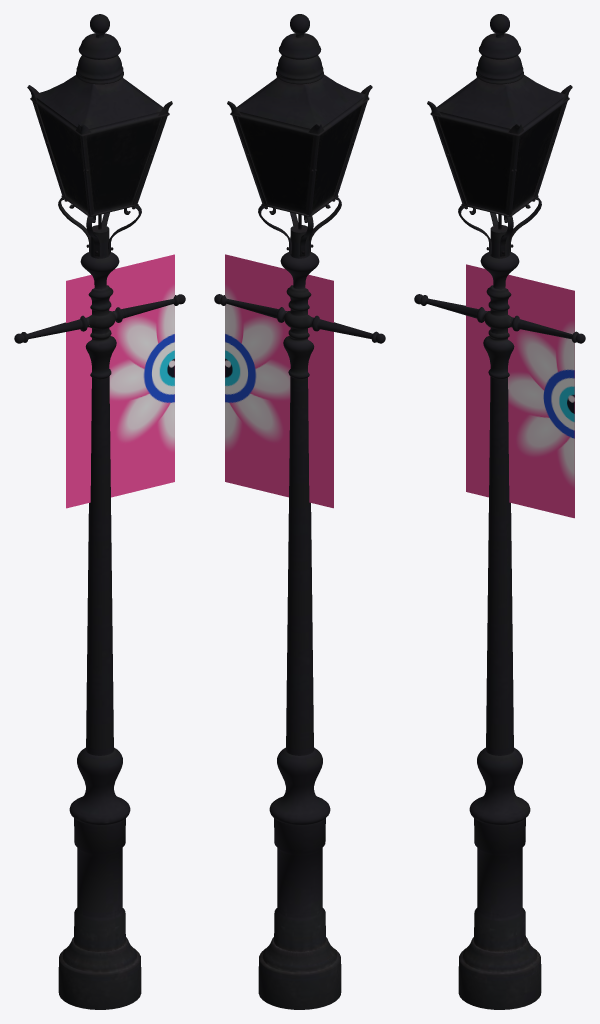
Rendered from nyb_sw_lamp.glb.
3 views of the same model, side by side, from view 1: azimuth 30°, elevation 25°; view 2: azimuth 150°, elevation 25°; view 3: azimuth 330°, elevation 25° (orthographic).
Visible parts, largest first — view 1: street_lamp_01, add_lbl_30e814b414.png; view 2: street_lamp_01, add_lbl_30e814b414.png; view 3: street_lamp_01, add_lbl_30e814b414.png.
Part boxes in pixels (x1,y1,x2,y2): street_lamp_01: (14,14,185,1009); add_lbl_30e814b414.png: (66,254,174,508); street_lamp_01: (214,14,385,1009); add_lbl_30e814b414.png: (225,254,333,508); street_lamp_01: (414,14,585,1009); add_lbl_30e814b414.png: (466,264,574,518).
Bounding box in the file's own units: 0.7043 × 3.87 × 0.3865.
4 materials, 4 textured.
